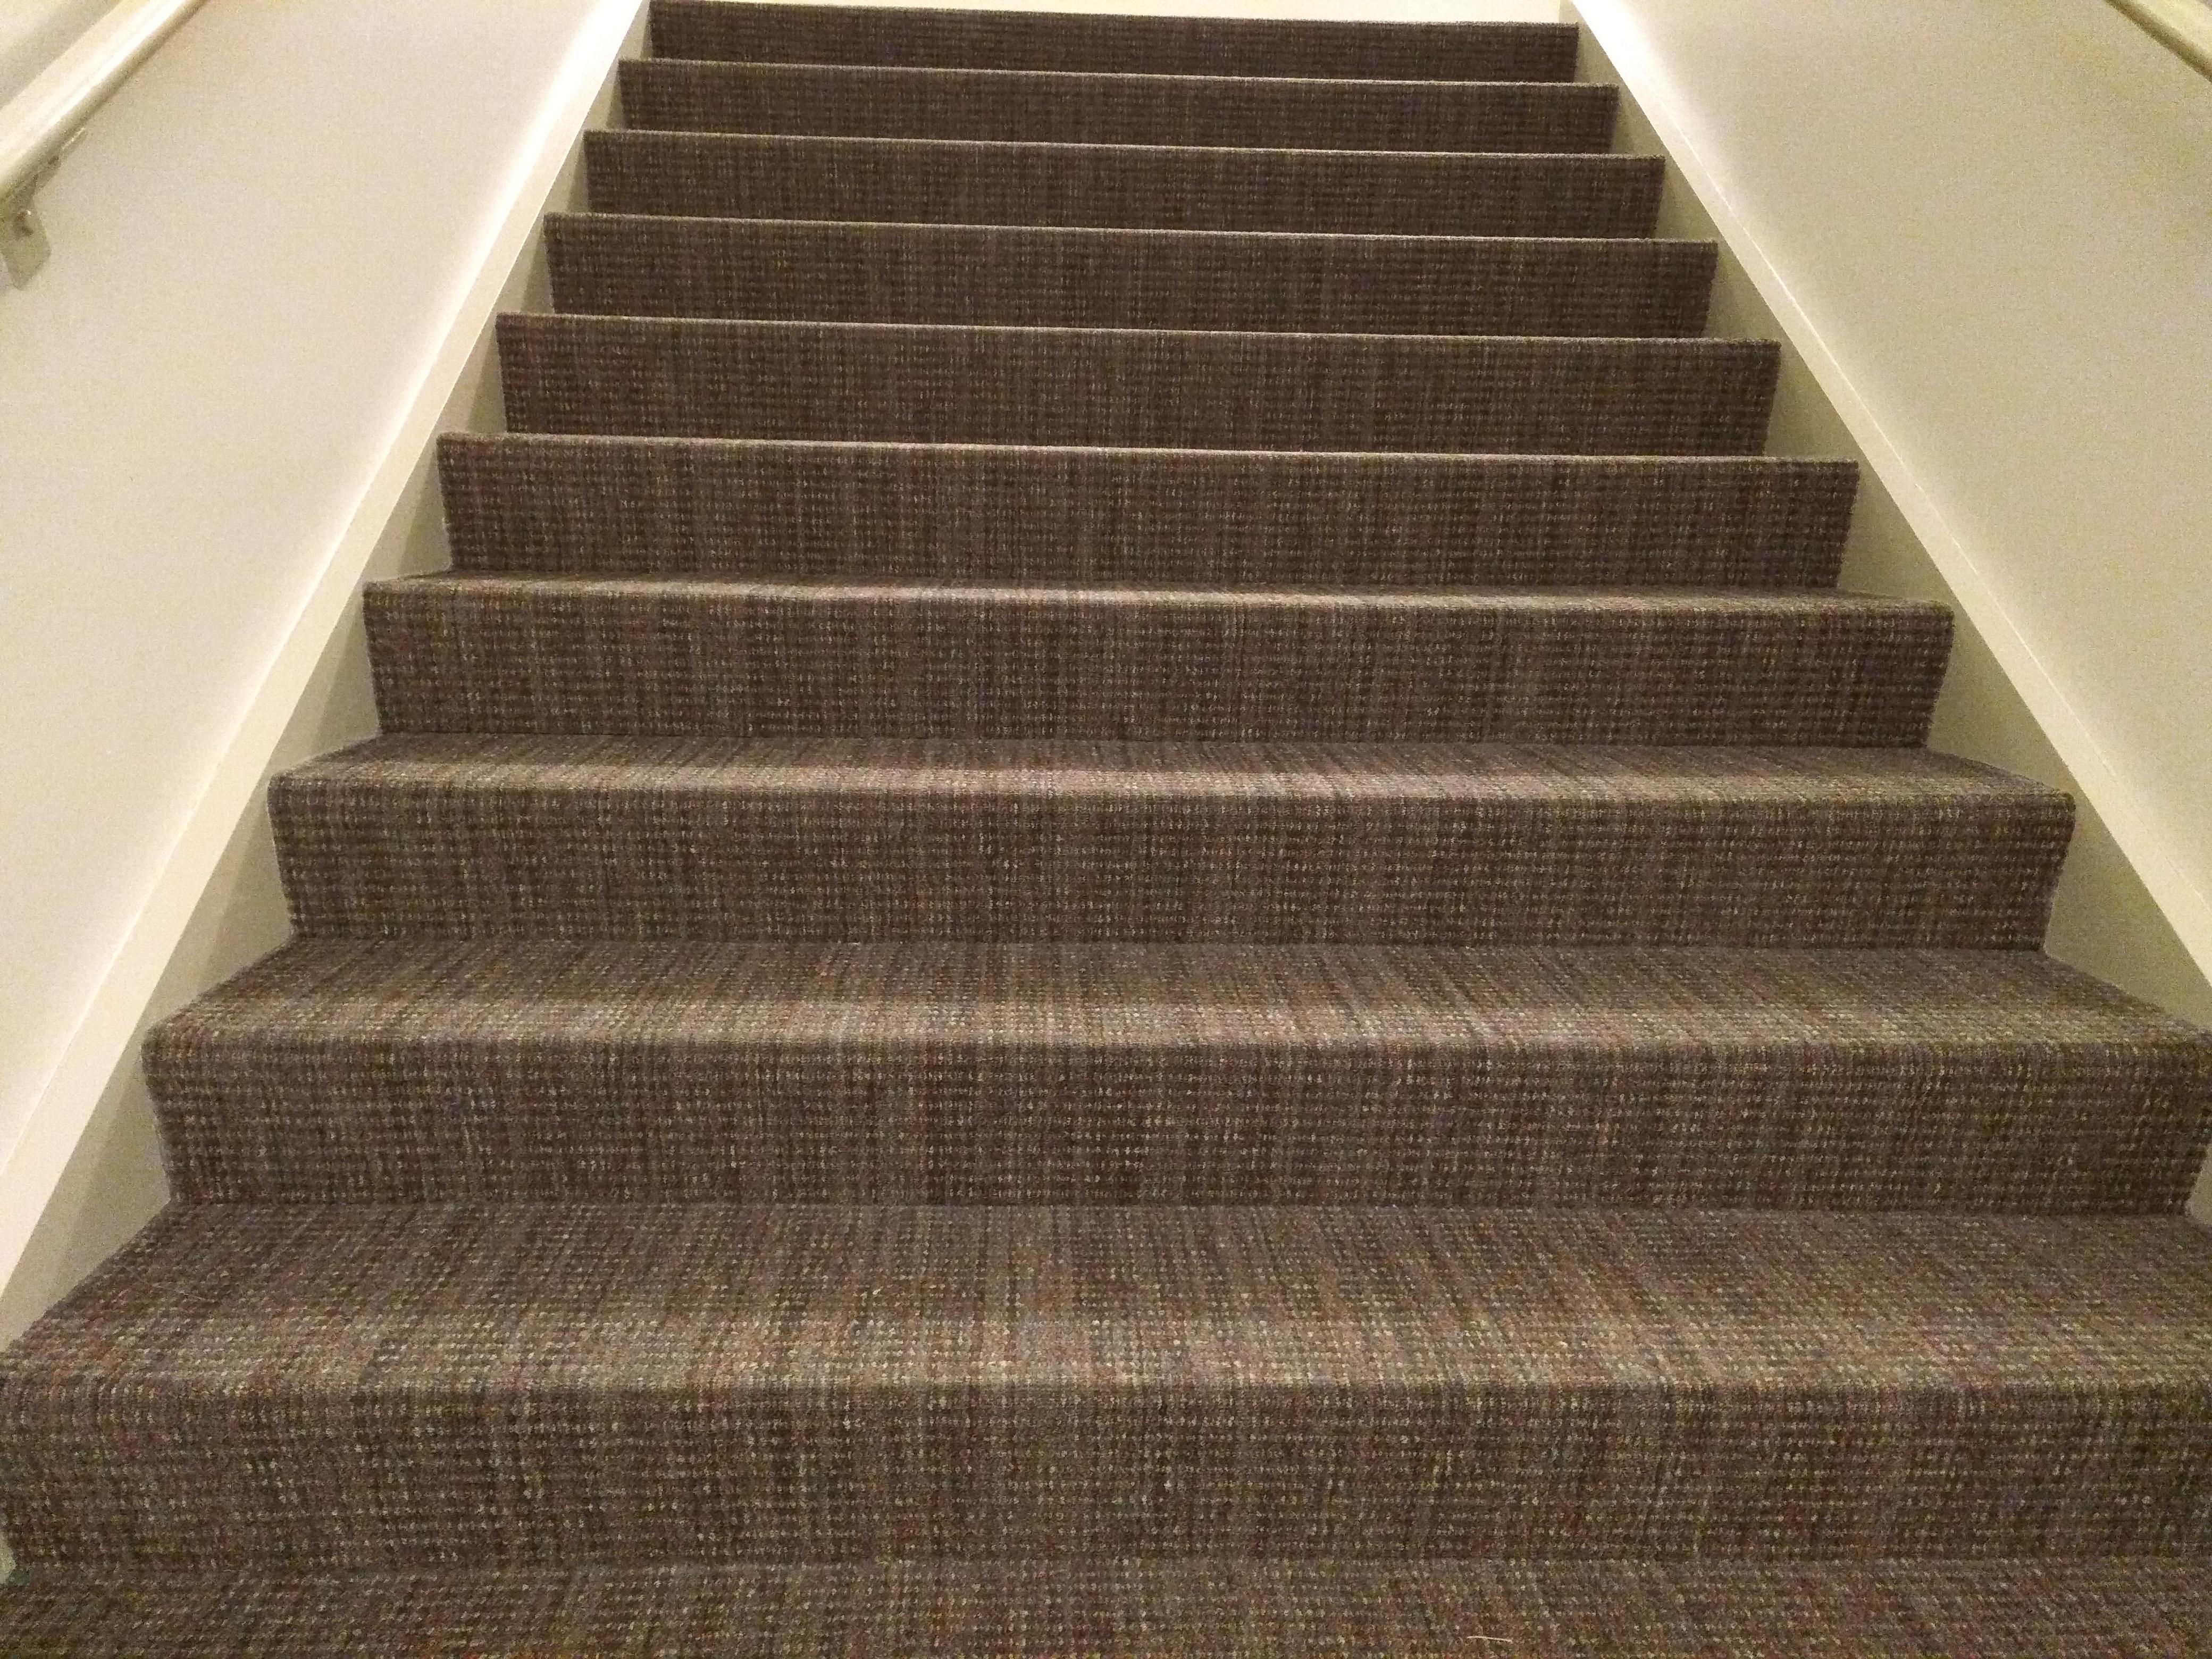stairs_up: (16, 3, 2212, 1624)
